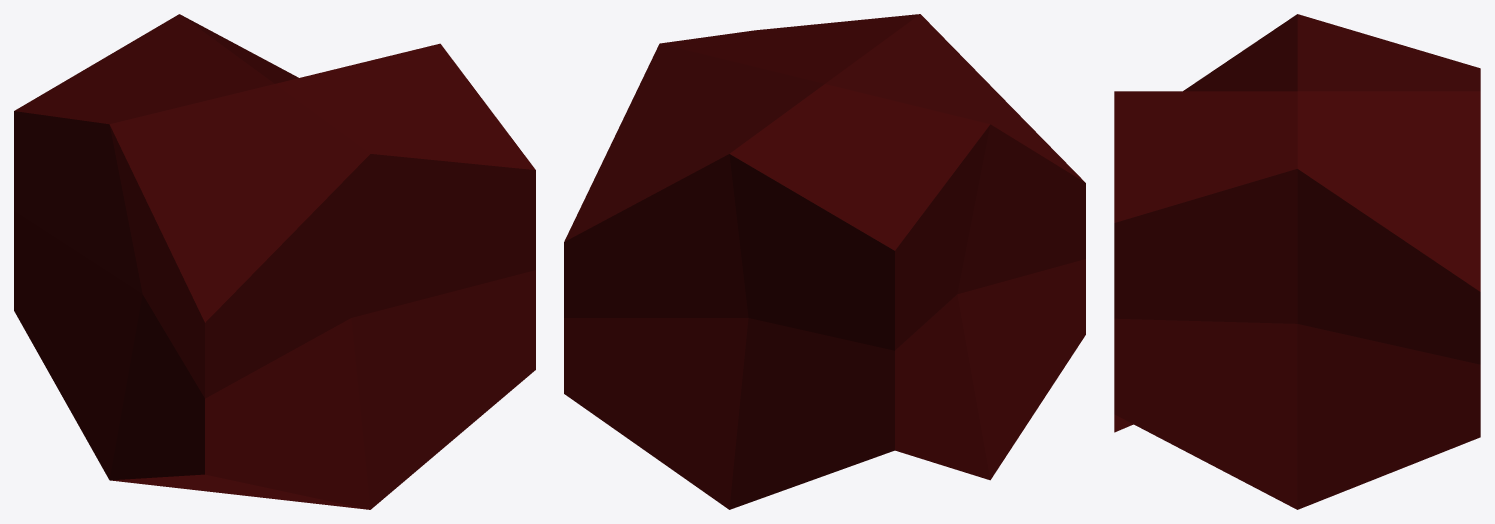
The model's file is skin_2_2_model.fbx.
3 renders of one model, left to right at view 1: azimuth 30°, elevation 25°; view 2: azimuth 150°, elevation 25°; view 3: azimuth 270°, elevation 25°, orthographic. The views are drawn at different scales.
Visible parts, largest first — view 1: Cube; view 2: Cube; view 3: Cube.
Boxes of the visible parts, x1,y1,x2,y2 form: Cube: (14,14,535,509); Cube: (564,14,1085,509); Cube: (1114,14,1480,509).
Bounding box in the file's own units: 200 × 206 × 200.
